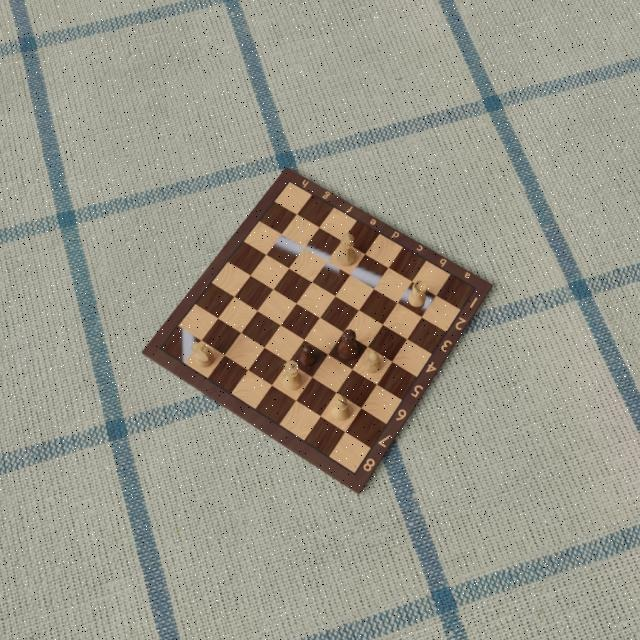black-king: (337, 327, 359, 360)
black-pawn: (297, 344, 318, 368)
white-bishop: (332, 395, 351, 421)
white-king: (336, 231, 358, 267)
white-knight: (191, 339, 215, 370)
white-pawn: (364, 350, 382, 373)
white-queen: (283, 357, 305, 392)
white-rook: (408, 281, 428, 311)
